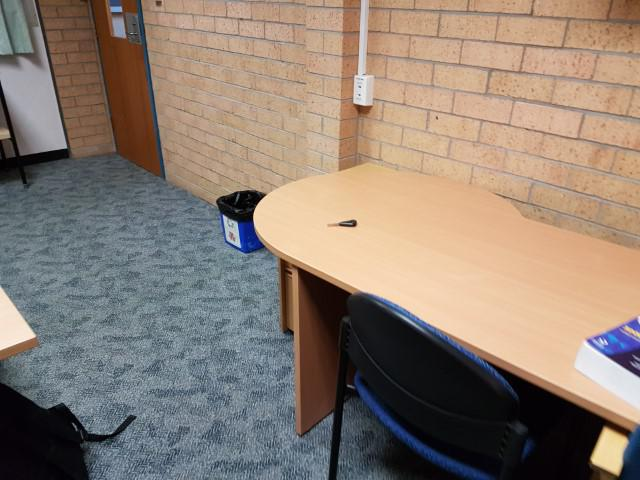key: (329, 220, 357, 227)
